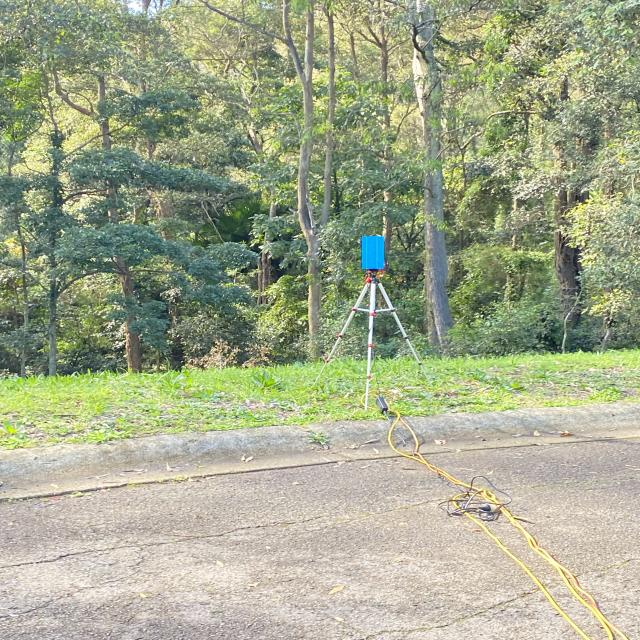matrix: (359, 234, 389, 271)
